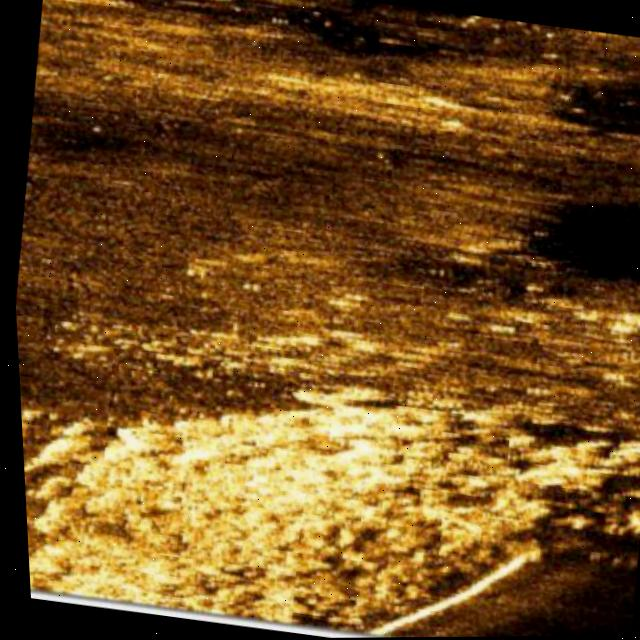bedrock group: (14, 334, 640, 640)
